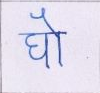au_matra: (36, 9, 70, 63)
